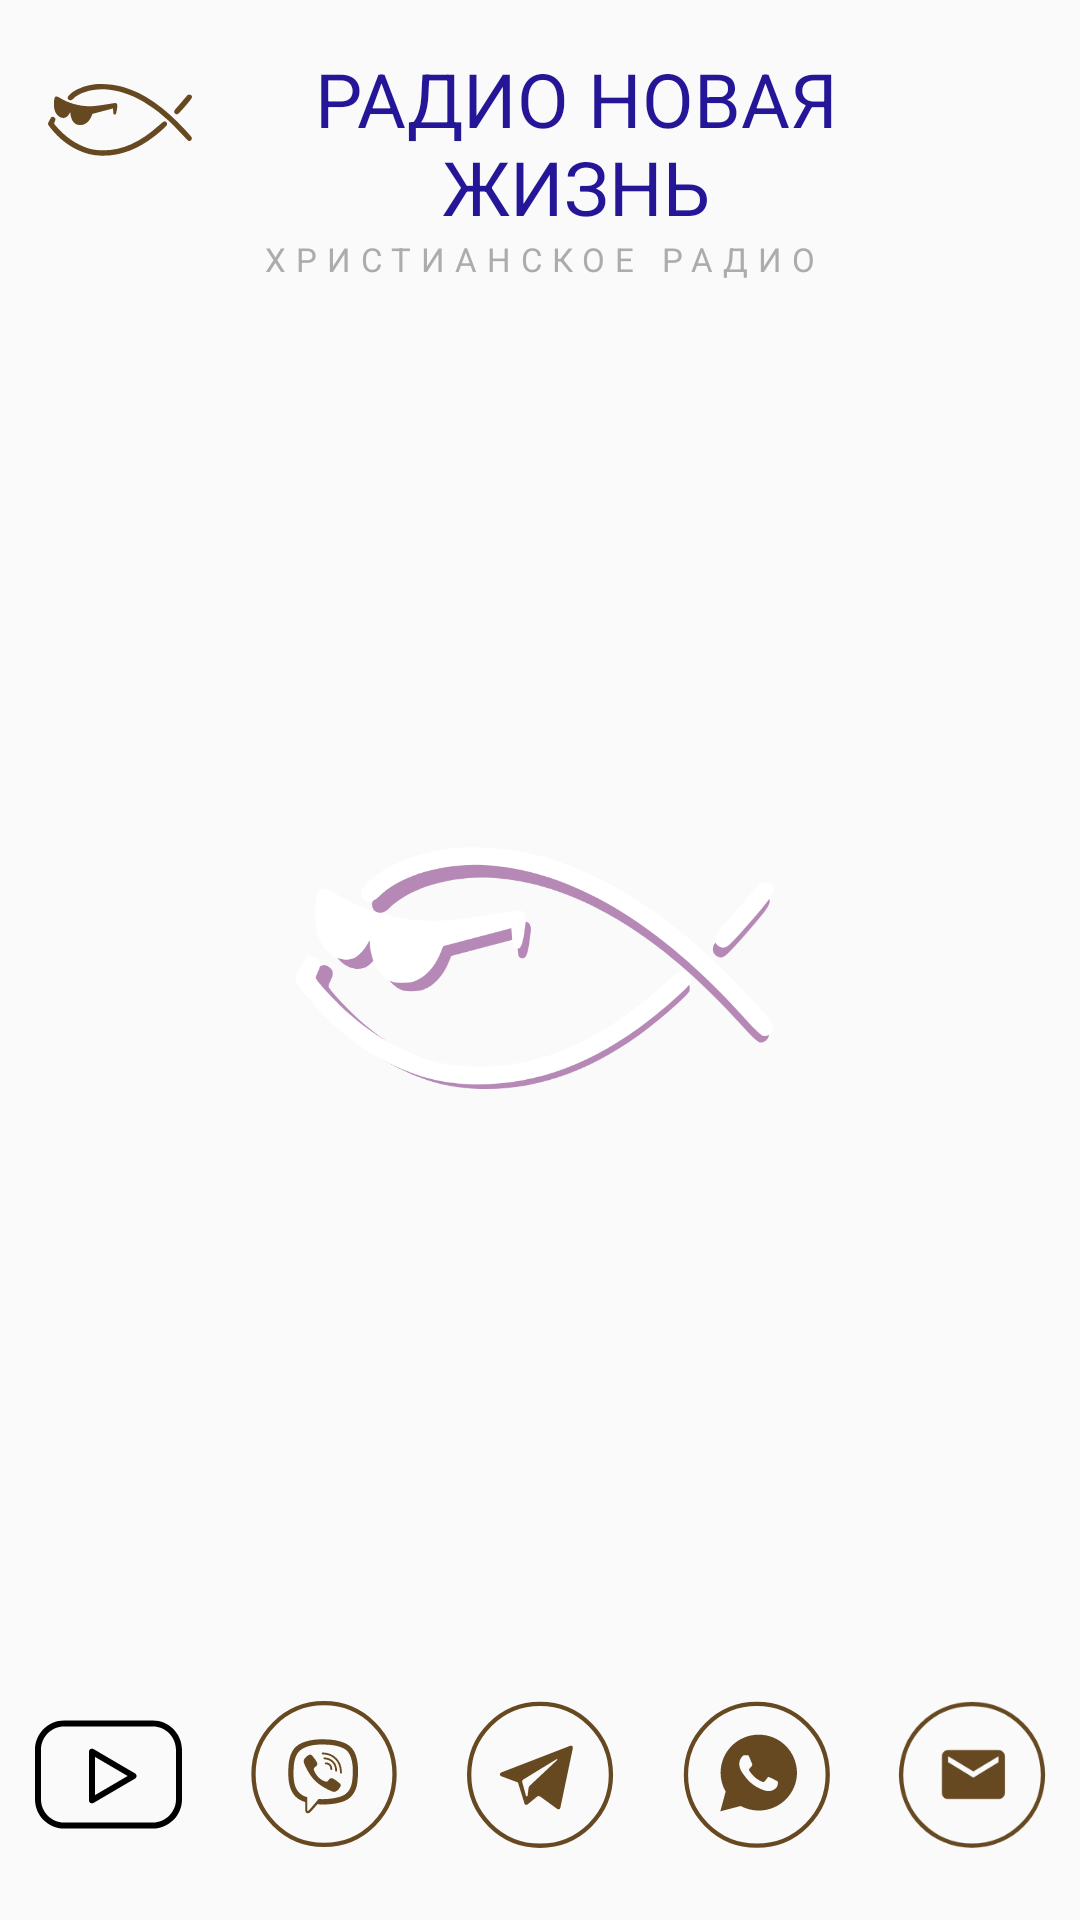

Named icons in this screenshot (1080px x 1920px) and their centers, point (x, y):
mail: point (972, 1775)
